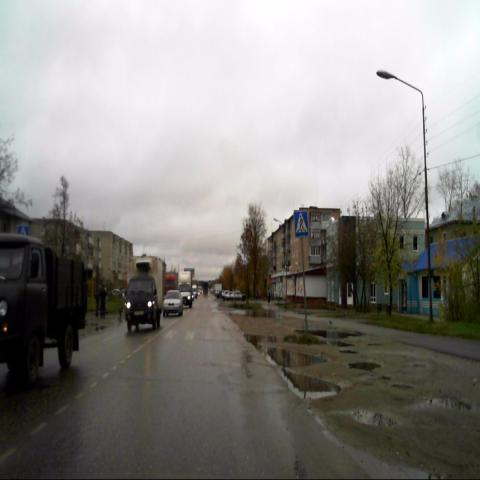5_19_1: (294, 210, 308, 238)
